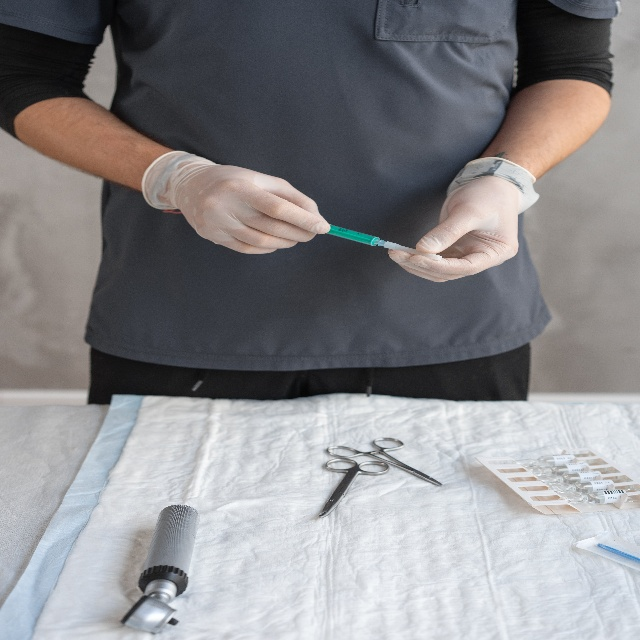Guantes: (389, 156, 541, 284), (141, 150, 329, 253)
Sin_guantes: (388, 176, 520, 283), (177, 165, 330, 255)
